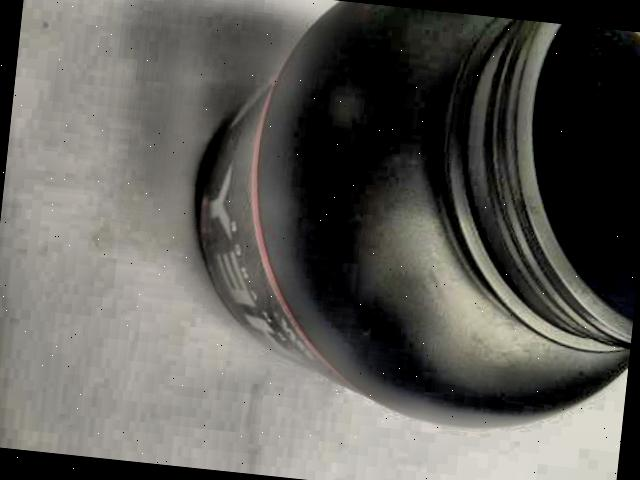Plastic: (169, 0, 640, 447)
